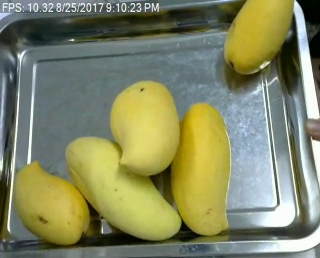Mango: (63, 134, 183, 240), (172, 101, 233, 237), (10, 163, 92, 245), (109, 80, 179, 174), (224, 1, 295, 79)
